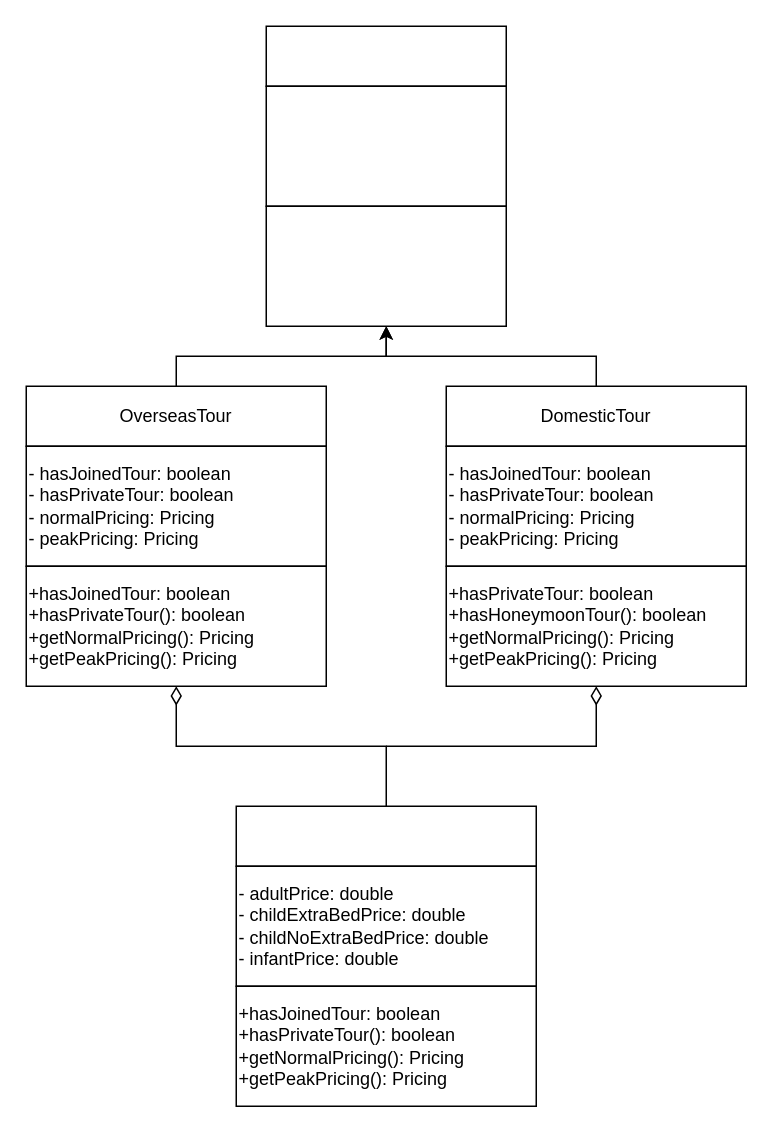
Image size: 773x1133. Some labels were removed from this diagram. Each missing label, with the box of its shape:
+getCountry(): String +getState(): String +getDuration(): int: (265, 205, 506, 326)
- country: String - state: String - duration: int: (265, 85, 506, 206)
Pricing: (235, 805, 536, 866)
Tour: (265, 25, 506, 86)
